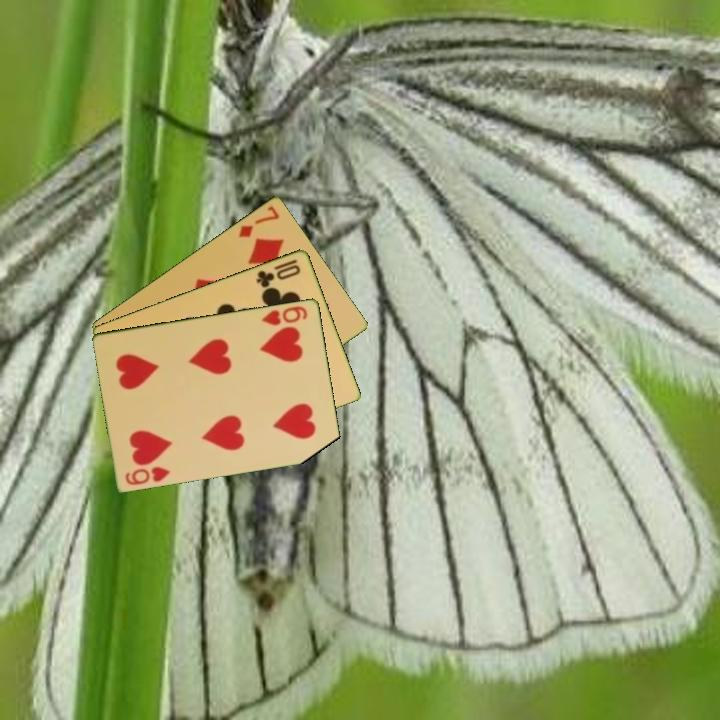10c: (253, 255, 304, 290)
6h: (259, 302, 310, 328), (122, 462, 173, 488)
7d: (235, 202, 282, 240)
